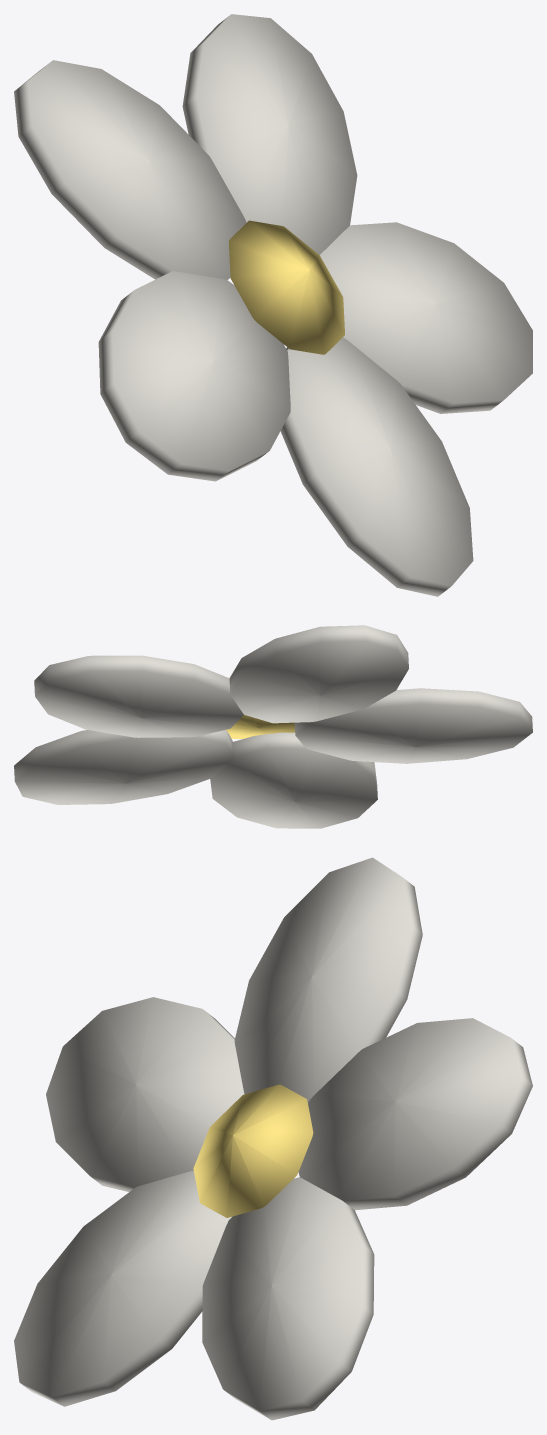
The model's file is acc-ear-flower.glb.
The picture shows the model from 3 angles, top to bottom: view 1: azimuth 30°, elevation 25°; view 2: azimuth 150°, elevation 25°; view 3: azimuth 270°, elevation 25°; orthographic projection. The views are drawn at different scales.
Parts seen in each view (by area): view 1: frangipani petal2, frangipani petal4, frangipani petal3, frangipani petal1, frangipani petal0, frangipani centre; view 2: frangipani petal1, frangipani petal2, frangipani petal3, frangipani petal0, frangipani petal4, frangipani centre; view 3: frangipani petal1, frangipani petal0, frangipani petal4, frangipani petal2, frangipani petal3, frangipani centre.
Part boxes in pixels (x1=…): frangipani petal2: x1=14, y1=60, x2=246, y2=279; frangipani petal4: x1=280, y1=337, x2=473, y2=596; frangipani petal3: x1=98, y1=271, x2=290, y2=481; frangipani petal1: x1=182, y1=14, x2=357, y2=254; frangipani petal0: x1=319, y1=222, x2=532, y2=413; frangipani centre: x1=229, y1=220, x2=344, y2=354; frangipani petal1: x1=34, y1=655, x2=243, y2=737; frangipani petal2: x1=229, y1=625, x2=408, y2=723; frangipani petal3: x1=294, y1=688, x2=532, y2=763; frangipani petal0: x1=14, y1=730, x2=233, y2=804; frangipani petal4: x1=210, y1=732, x2=377, y2=828; frangipani centre: x1=226, y1=715, x2=294, y2=738; frangipani petal1: x1=298, y1=1018, x2=532, y2=1210; frangipani petal0: x1=202, y1=1177, x2=374, y2=1420; frangipani petal4: x1=14, y1=1170, x2=231, y2=1406; frangipani petal2: x1=234, y1=857, x2=422, y2=1103; frangipani petal3: x1=46, y1=997, x2=244, y2=1191; frangipani centre: x1=193, y1=1084, x2=313, y2=1217.
Size of the model in its own units: 1.71 by 1.36 by 1.51.
